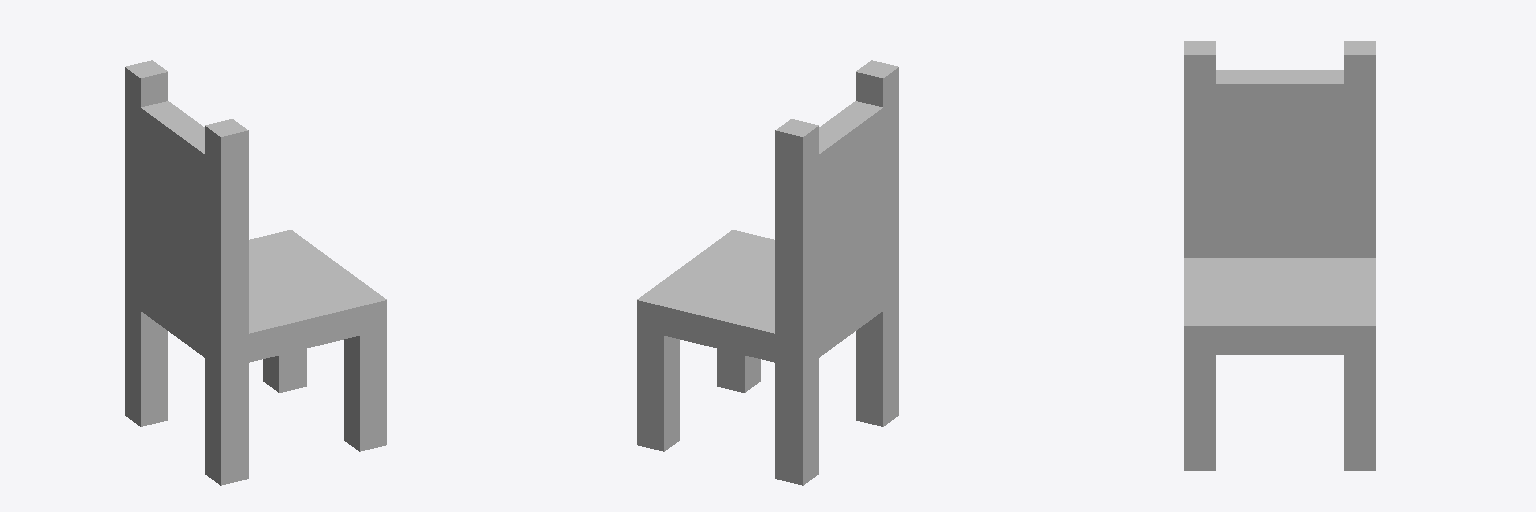
The model's file is escenario (1)-0.obj.
3 views of the same model, side by side, from view 1: azimuth 30°, elevation 25°; view 2: azimuth 150°, elevation 25°; view 3: azimuth 270°, elevation 25° (orthographic).
Parts seen in each view (by area): view 1: object 1; view 2: object 1; view 3: object 1.
Boxes of the visible parts, x1=… form: object 1: x1=125, y1=60, x2=386, y2=485; object 1: x1=637, y1=60, x2=898, y2=485; object 1: x1=1184, y1=41, x2=1375, y2=470.
Bounding box in the file's own units: 0.6 × 1.2 × 0.6.